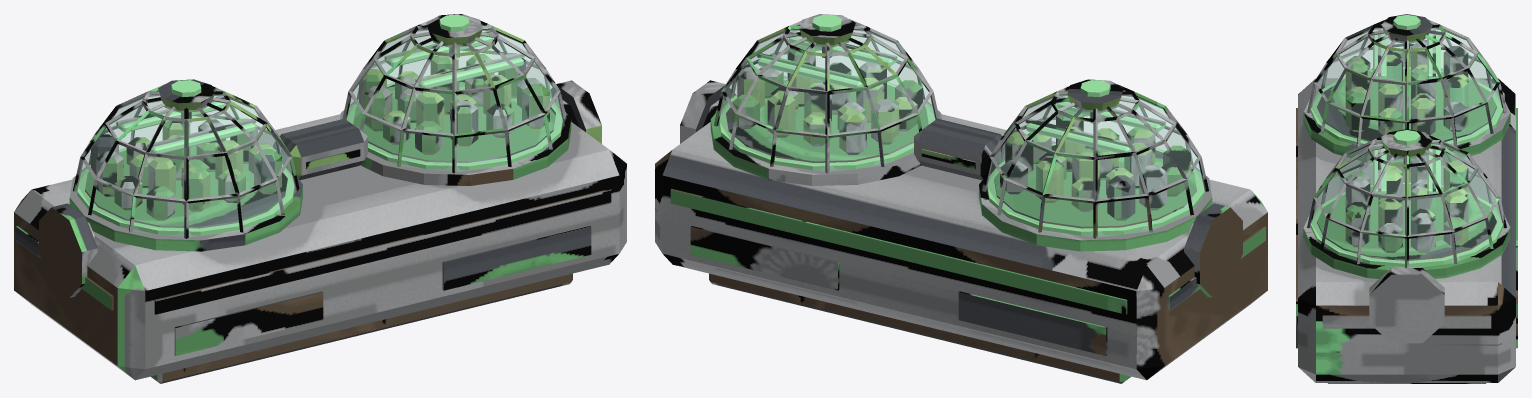
Rendered from SM_Farm.fbx.
3 views of the same model, side by side, from view 1: azimuth 30°, elevation 25°; view 2: azimuth 150°, elevation 25°; view 3: azimuth 270°, elevation 25° (orthographic). The views are drawn at different scales.
Parts seen in each view (by area): view 1: SMN_Farm, Glass, GrowLights; view 2: SMN_Farm, Glass, GrowLights; view 3: SMN_Farm, Glass, GrowLights.
Boxes of the visible parts, x1,y1,x2,y2 form: SMN_Farm: [14, 14, 626, 383]; Glass: [77, 25, 563, 236]; GrowLights: [77, 14, 562, 235]; SMN_Farm: [655, 14, 1267, 383]; Glass: [718, 25, 1204, 236]; GrowLights: [719, 14, 1204, 235]; SMN_Farm: [1296, 14, 1517, 383]; Glass: [1310, 28, 1503, 267]; GrowLights: [1310, 14, 1503, 267].
Size of the model in its own units: 1.94 by 0.883 by 0.814.
